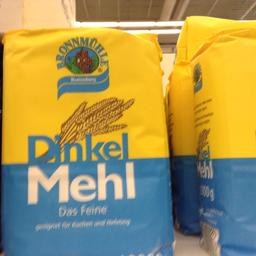flour: (2, 26, 174, 254)
